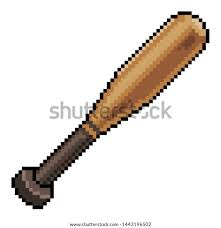baseball bat: (11, 10, 210, 208)
